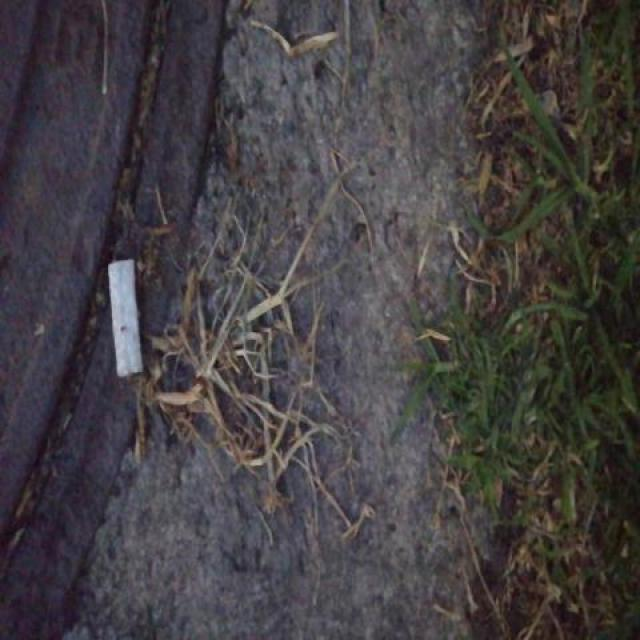non-organic waste: (102, 255, 146, 380)
